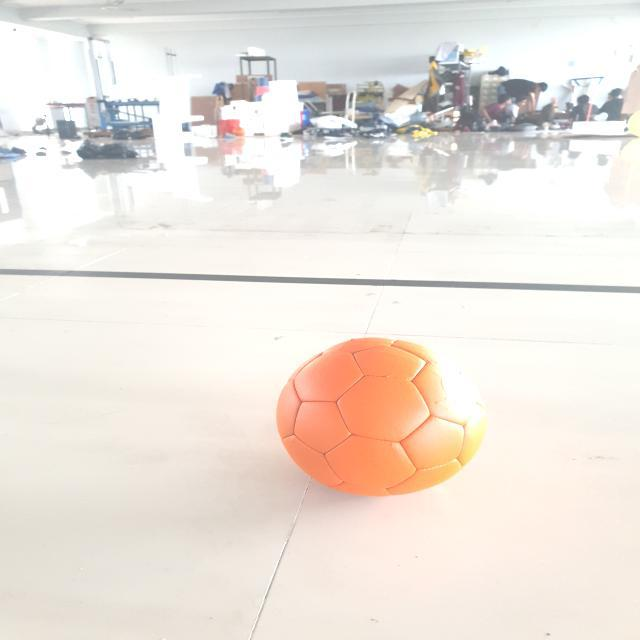bola: (211, 323, 552, 508)
